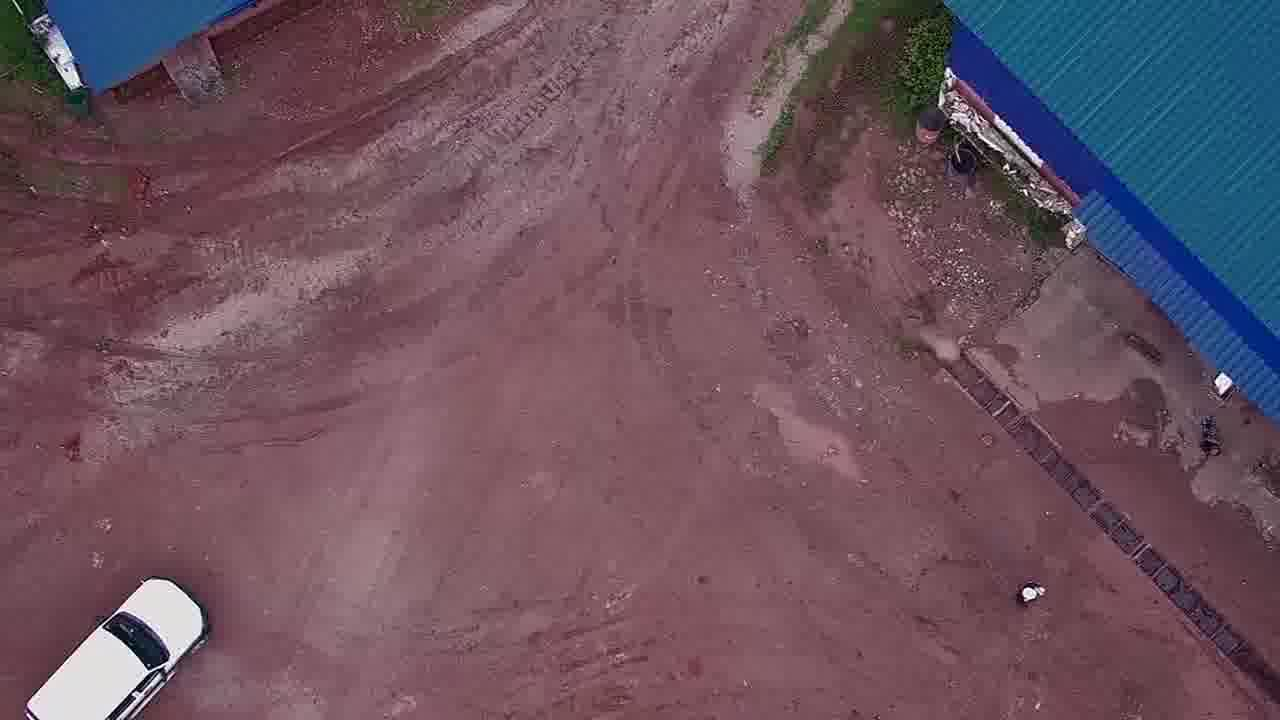light_motor_vehicle: (19, 575, 214, 720)
person: (1017, 579, 1046, 610)
